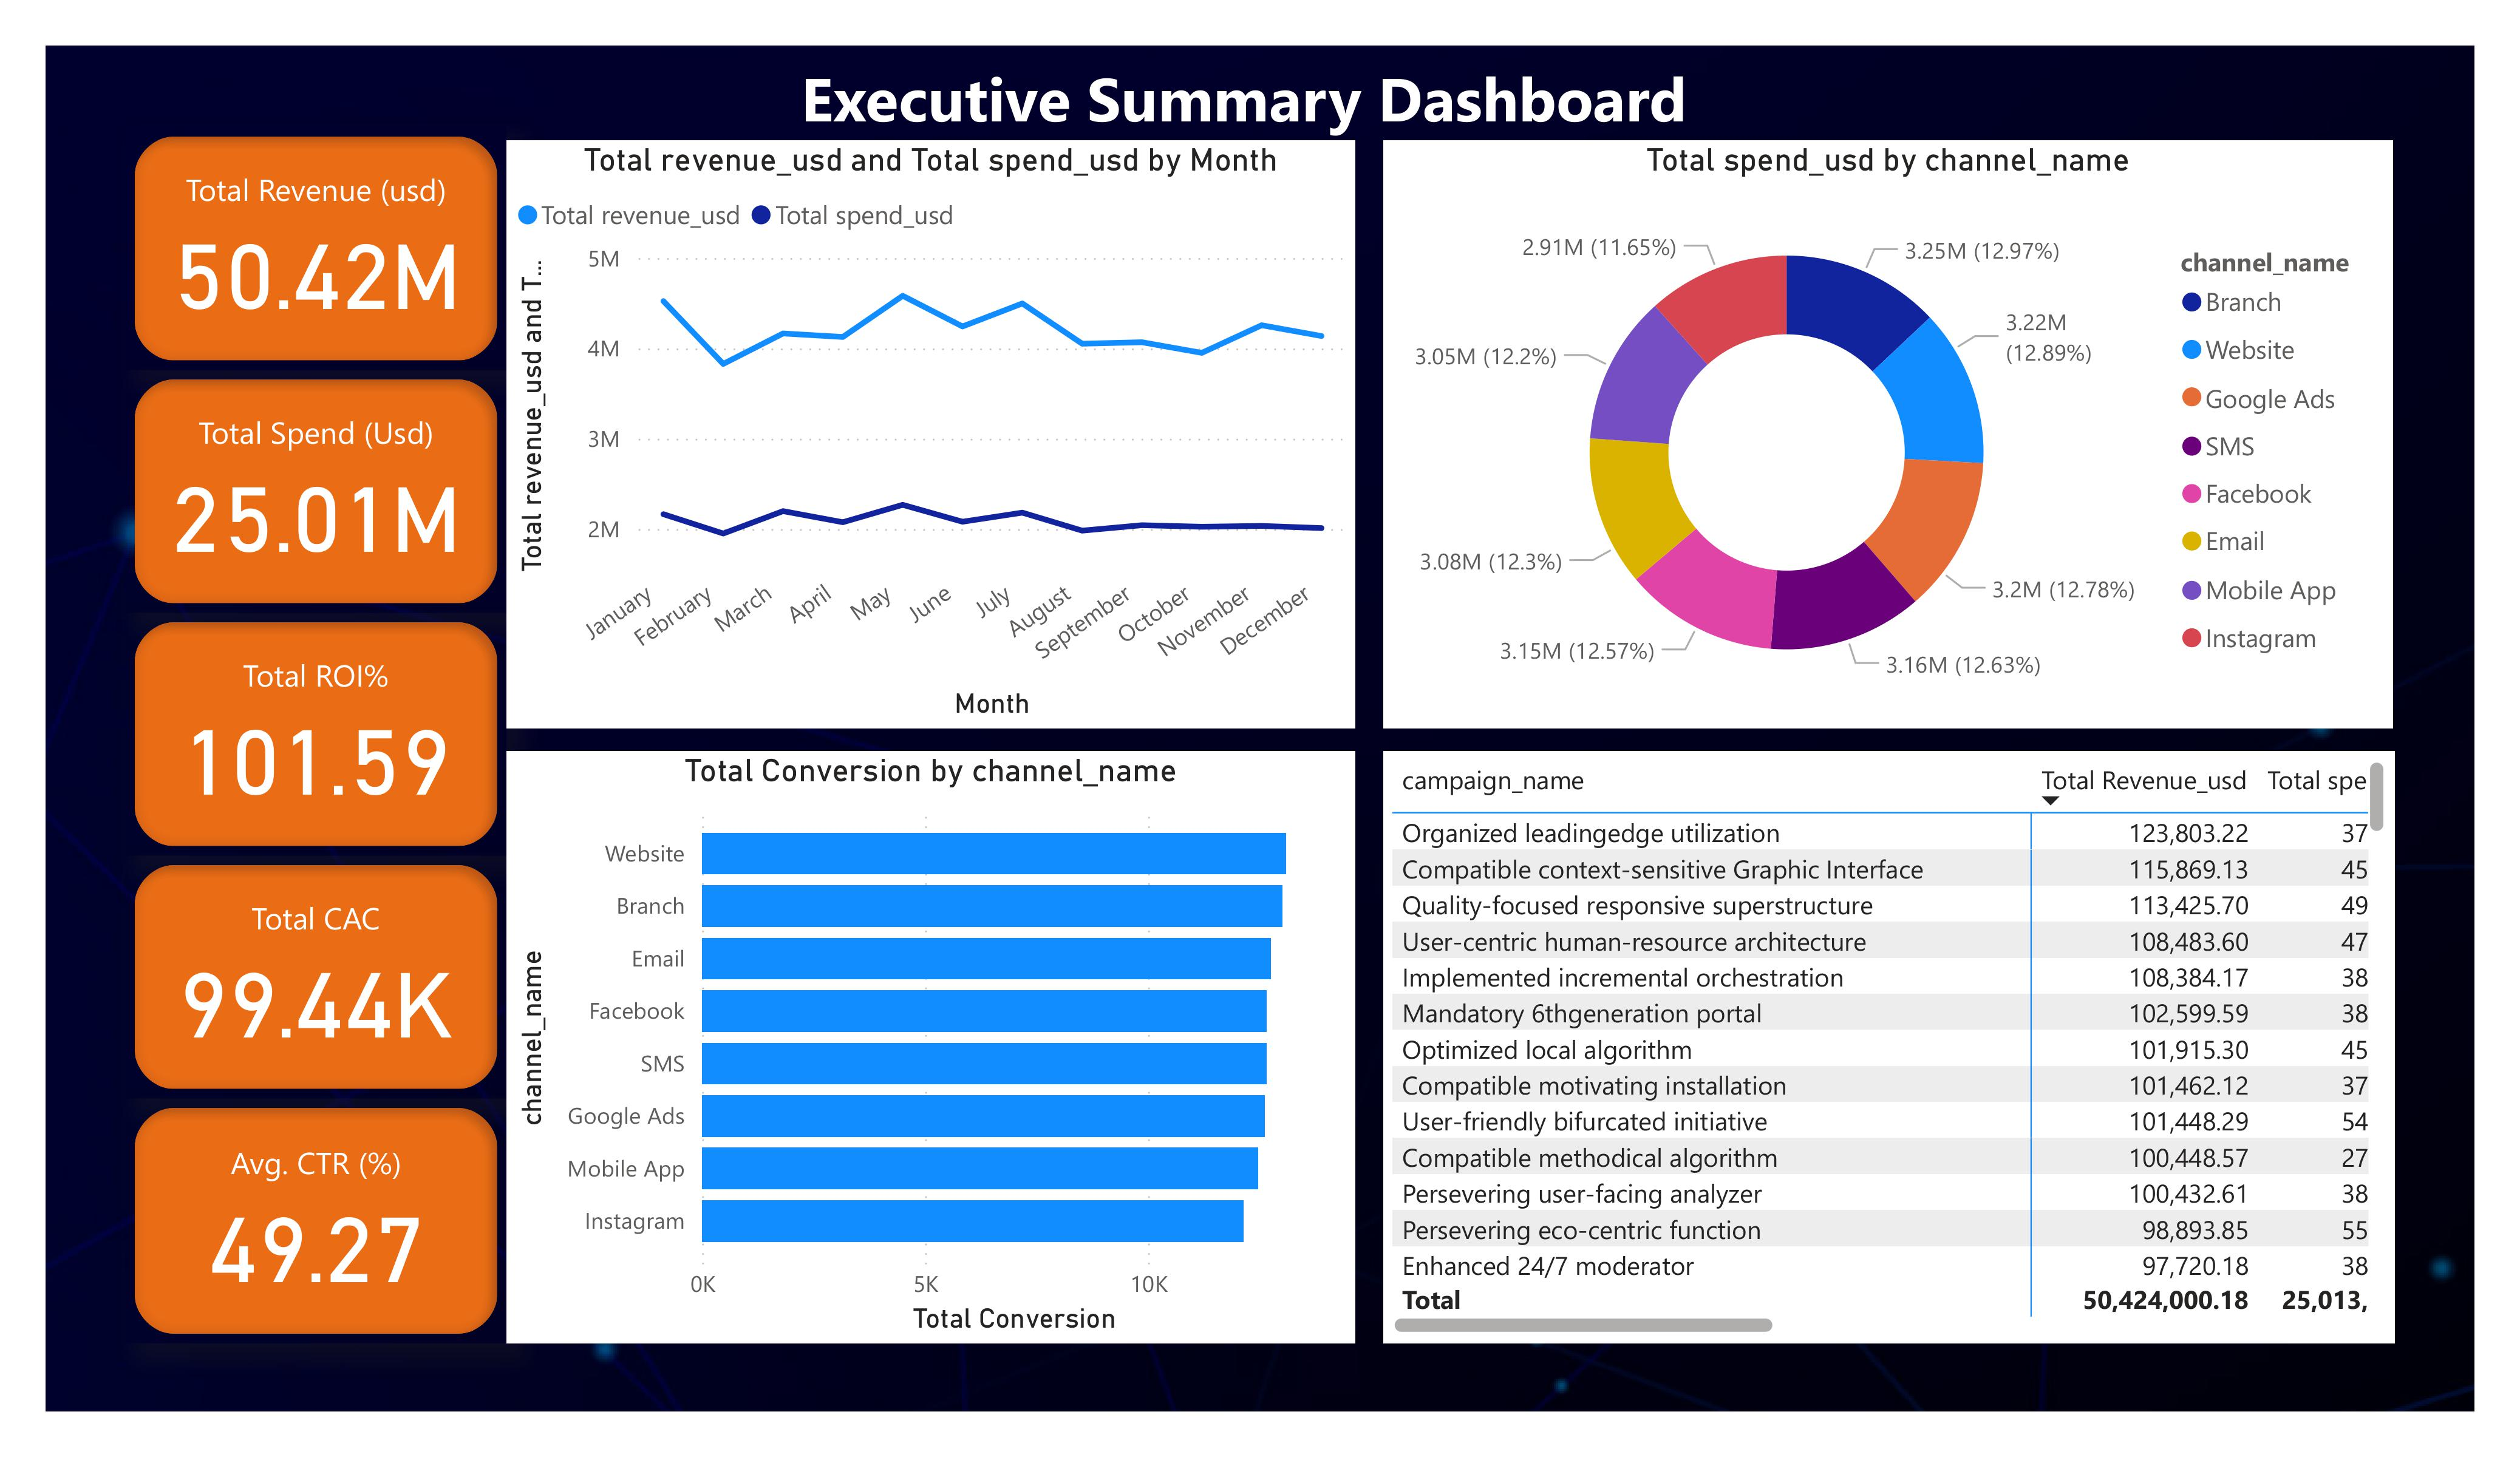

This screenshot's page, from the dashboard's own definition file:
{"tool":"powerbi","page":{"name":"Executive Summary Dashboard","canvas":[1280,720],"ordinal":4},"visuals":[{"type":"textbox","box":[392.7,0,494.5,60],"z":0},{"type":"cardVisual","fields":{"Data":["Sum(Fact_CampaignPerformance.revenue_usd)"]},"box":[41.7,42.7,200.9,128.2],"z":1000},{"type":"cardVisual","fields":{"Data":["Sum(Fact_CampaignPerformance.spend_usd)"]},"box":[41.8,170.9,200.9,128.2],"z":2000},{"type":"cardVisual","fields":{"Data":["Sum(Fact_CampaignPerformance.ROI%)"]},"box":[41.8,299.1,200.9,128.2],"z":3000},{"type":"cardVisual","fields":{"Data":["Sum(Fact_CampaignPerformance.CAC)"]},"box":[41.8,427.3,200.9,128.2],"z":4000},{"type":"cardVisual","fields":{"Data":["Avg(Fact_CampaignPerformance.CTR (%))"]},"box":[41.8,555.5,200.9,128.2],"z":5000},{"type":"lineChart","fields":{"Y":["Sum(Fact_CampaignPerformance.revenue_usd)","Sum(Fact_CampaignPerformance.spend_usd)"],"Category":["Dim_Date.full_date.Variation.Date Hierarchy.Month"]},"box":[242.7,50,447.3,310],"z":6000},{"type":"barChart","fields":{"Category":["Dim_Channels.channel_name"],"Y":["Sum(Fact_CampaignPerformance.Conversion Rate %)"]},"box":[242.7,371.8,447.3,311.8],"z":7000},{"type":"donutChart","title":"Total spend_usd by channel_name","fields":{"Category":["Dim_Channels.channel_name"],"Y":["Sum(Fact_CampaignPerformance.spend_usd)"]},"box":[704.5,50,532.7,310],"z":8000},{"type":"pivotTable","fields":{"Rows":["Dim_Campaigns.campaign_name"],"Values":["Sum(Fact_CampaignPerformance.revenue_usd)","Sum(Fact_CampaignPerformance.spend_usd)","Sum(Fact_CampaignPerformance.ROI%)","Sum(Fact_CampaignPerformance.Conversion Rate %)"]},"box":[705,372,533,312],"z":9000}]}

Visuals, with their boxes on the page's 1280x720 design canvas (x1, y1, x2, y2). These are canvas units, not pixel positions in the 2520x1457 screenshot, which may show the page scaled, cropped or inside an application window:
textbox: select_region(393, 0, 887, 60)
cardVisual - Sum(Fact_CampaignPerformance.revenue_usd): select_region(42, 43, 243, 171)
cardVisual - Sum(Fact_CampaignPerformance.spend_usd): select_region(42, 171, 243, 299)
cardVisual - Sum(Fact_CampaignPerformance.ROI%): select_region(42, 299, 243, 427)
cardVisual - Sum(Fact_CampaignPerformance.CAC): select_region(42, 427, 243, 556)
cardVisual - Avg(Fact_CampaignPerformance.CTR (%)): select_region(42, 556, 243, 684)
lineChart - Sum(Fact_CampaignPerformance.revenue_usd) x Sum(Fact_CampaignPerformance.spend_usd): select_region(243, 50, 690, 360)
barChart - Dim_Channels.channel_name x Sum(Fact_CampaignPerformance.Conversion Rate %): select_region(243, 372, 690, 684)
"Total spend_usd by channel_name" donutChart: select_region(704, 50, 1237, 360)
pivotTable - Dim_Campaigns.campaign_name x Sum(Fact_CampaignPerformance.revenue_usd): select_region(705, 372, 1238, 684)
